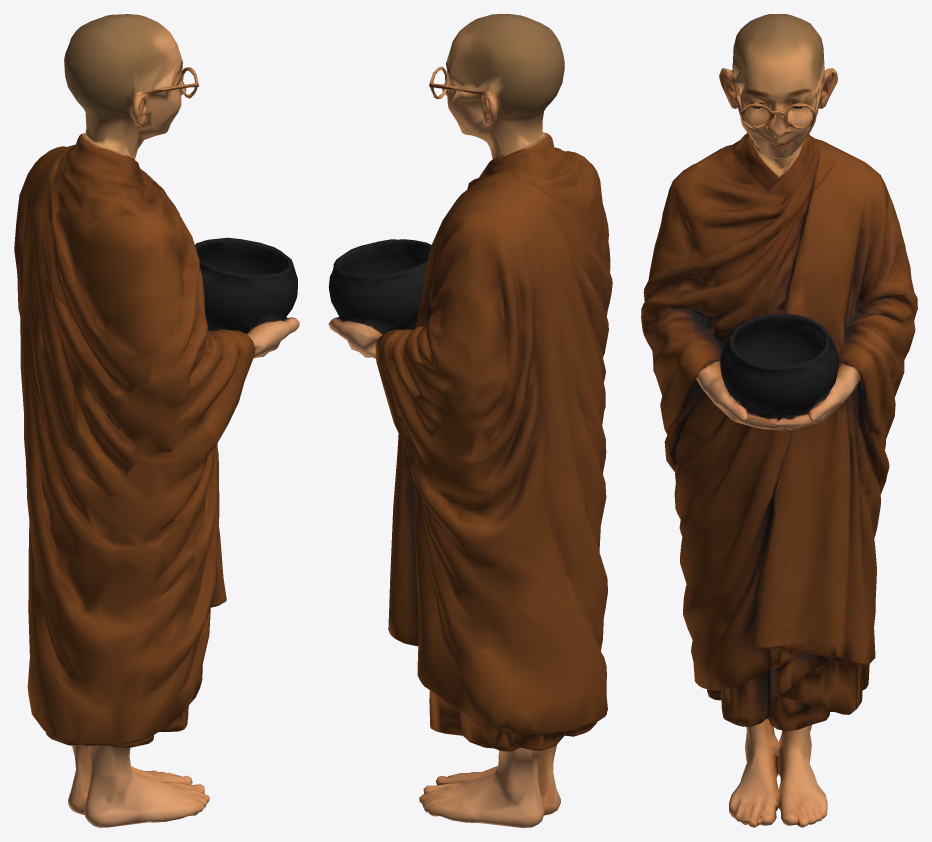
File: alms-young.glb
3 views of the same model, side by side, from view 1: azimuth 30°, elevation 25°; view 2: azimuth 150°, elevation 25°; view 3: azimuth 270°, elevation 25° (orthographic). The views are drawn at different scales.
Visible parts, largest first — view 1: tripo_node_056999c7-ccc5-44ae-a12e-78833c16e849; view 2: tripo_node_056999c7-ccc5-44ae-a12e-78833c16e849; view 3: tripo_node_056999c7-ccc5-44ae-a12e-78833c16e849.
Boxes of the visible parts, bbox=[...] form: tripo_node_056999c7-ccc5-44ae-a12e-78833c16e849: bbox=[14, 14, 299, 827]; tripo_node_056999c7-ccc5-44ae-a12e-78833c16e849: bbox=[328, 14, 612, 827]; tripo_node_056999c7-ccc5-44ae-a12e-78833c16e849: bbox=[641, 14, 917, 827].
Bounding box in the file's own units: 0.3357 × 0.9996 × 0.3235.
1 material, 1 textured.
